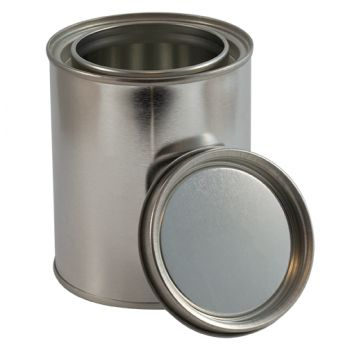metal: (46, 11, 255, 311), (137, 146, 314, 338)
